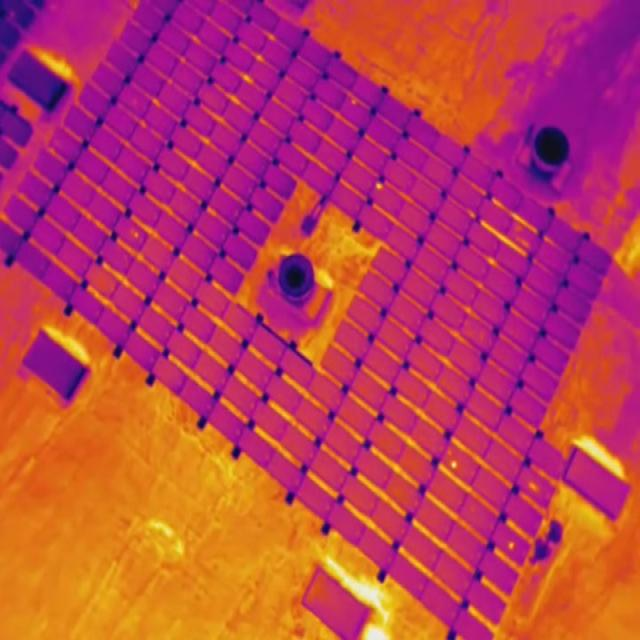Orange-Spots: (529, 481, 538, 492), (451, 459, 458, 470), (131, 228, 138, 238), (376, 183, 384, 190), (522, 240, 529, 248), (516, 224, 522, 232), (508, 542, 514, 550), (516, 236, 522, 242), (352, 100, 356, 106), (448, 450, 452, 456)
